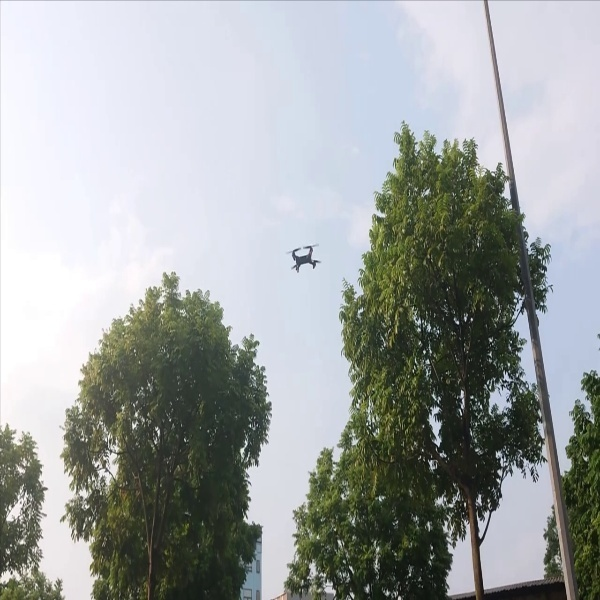drone: (287, 239, 322, 278)
